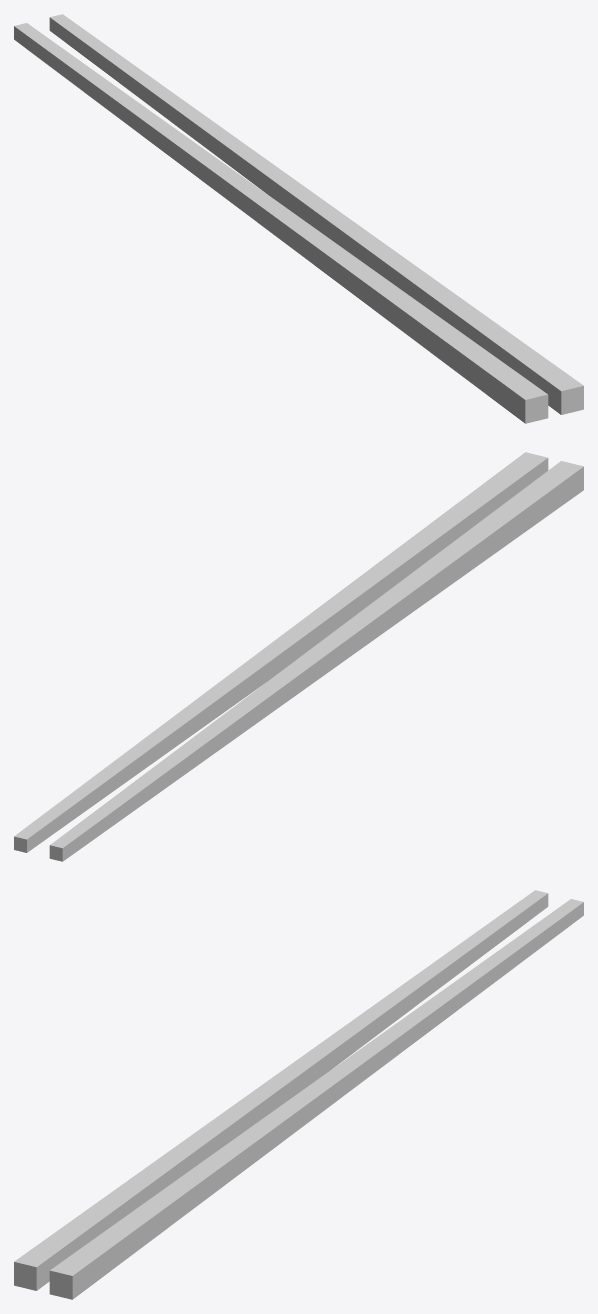
The model's file is Itr_Obj_Chopsticks_01.FBX.
The picture shows the model from 3 angles, top to bottom: view 1: azimuth 30°, elevation 25°; view 2: azimuth 150°, elevation 25°; view 3: azimuth 330°, elevation 25°; orthographic projection.
Visible parts, largest first — view 1: Itr_Obj_Chopsticks_01; view 2: Itr_Obj_Chopsticks_01; view 3: Itr_Obj_Chopsticks_01.
Part boxes in pixels (<box>): Itr_Obj_Chopsticks_01: <box>14,14,583,423</box>; Itr_Obj_Chopsticks_01: <box>14,452,583,861</box>; Itr_Obj_Chopsticks_01: <box>14,890,583,1299</box>.
Size of the model in its own units: 0.286 by 0.1115 by 4.37.
